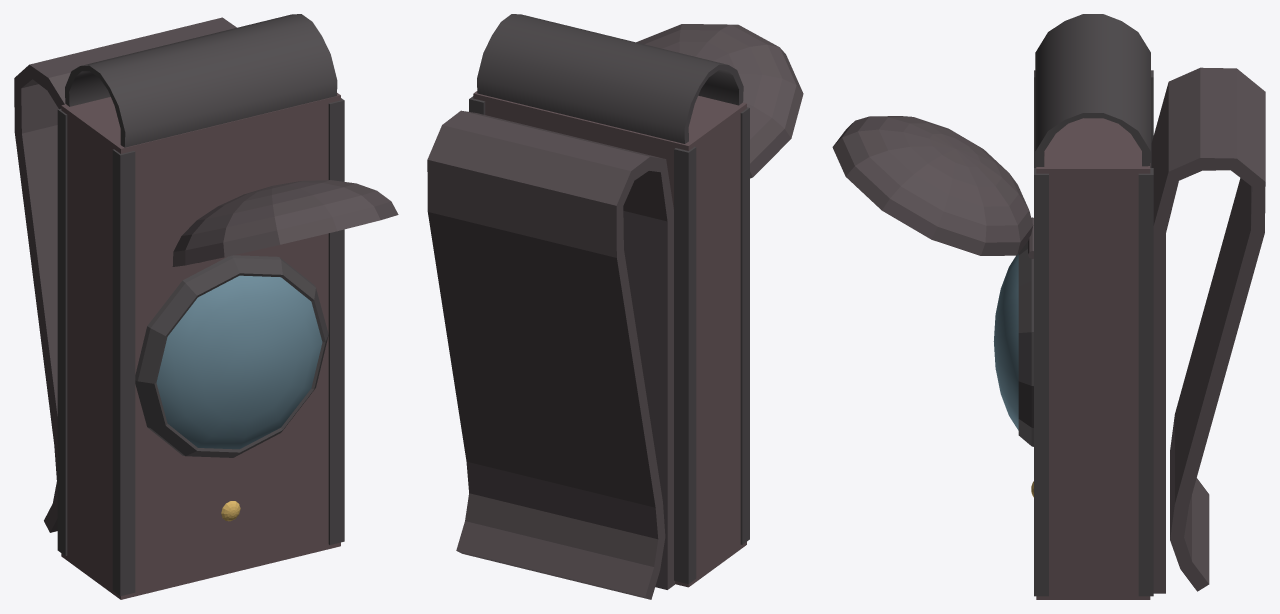
Rendered from atoll_Lantern.fbx.
3 renders of one model, left to right at view 1: azimuth 30°, elevation 25°; view 2: azimuth 150°, elevation 25°; view 3: azimuth 270°, elevation 25°, orthographic. The views are drawn at different scales.
Parts seen in each view (by area): view 1: Body, Lens, pCube5, Hook, LensCover, CornerGuard1, LensRim, CornerGuard2, CornerGuard3; view 2: Hook, Body, pCube5, CornerGuard3, LensCover, CornerGuard1; view 3: Body, Hook, LensCover, pCube5, CornerGuard4, CornerGuard2, Lens, LensRim.
Boxes of the visible parts, <box> form: Body: <box>61,93,340,599</box>; Lens: <box>156,275,322,449</box>; pCube5: <box>65,14,337,147</box>; Hook: <box>14,17,236,532</box>; LensCover: <box>172,180,398,266</box>; CornerGuard1: <box>112,149,135,596</box>; LensRim: <box>135,255,328,457</box>; CornerGuard2: <box>328,98,344,544</box>; CornerGuard3: <box>57,109,67,555</box>; Hook: <box>427,110,674,599</box>; Body: <box>473,91,746,587</box>; pCube5: <box>477,14,743,143</box>; CornerGuard3: <box>674,146,696,584</box>; LensCover: <box>636,24,803,178</box>; CornerGuard1: <box>740,107,749,544</box>; Body: <box>1036,118,1150,599</box>; Hook: <box>1151,67,1265,593</box>; LensCover: <box>832,116,1033,255</box>; pCube5: <box>1035,14,1150,166</box>; CornerGuard4: <box>1138,168,1153,596</box>; CornerGuard2: <box>1034,168,1048,596</box>; Lens: <box>993,254,1018,430</box>; LensRim: <box>1018,242,1033,446</box>.
Size of the model in its own units: 18.02 by 38.94 by 31.5.
